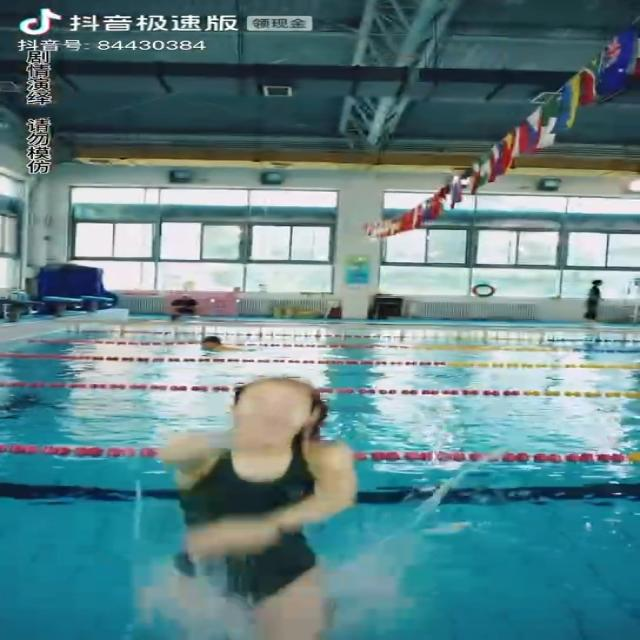Drowning: (150, 372, 366, 636)
